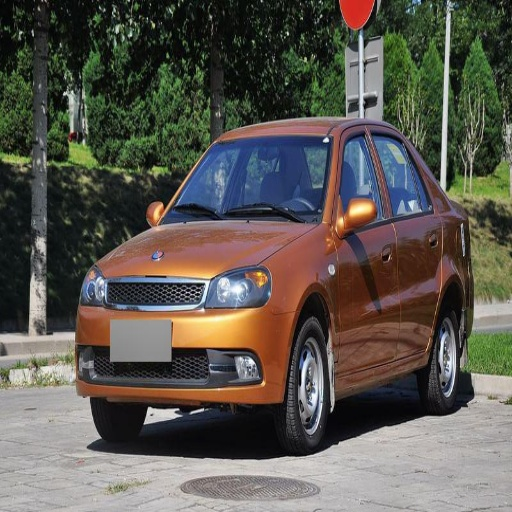front_bumper: (76, 277, 294, 404)
front_glass: (160, 135, 331, 223)
front_left_door: (335, 126, 400, 376)
